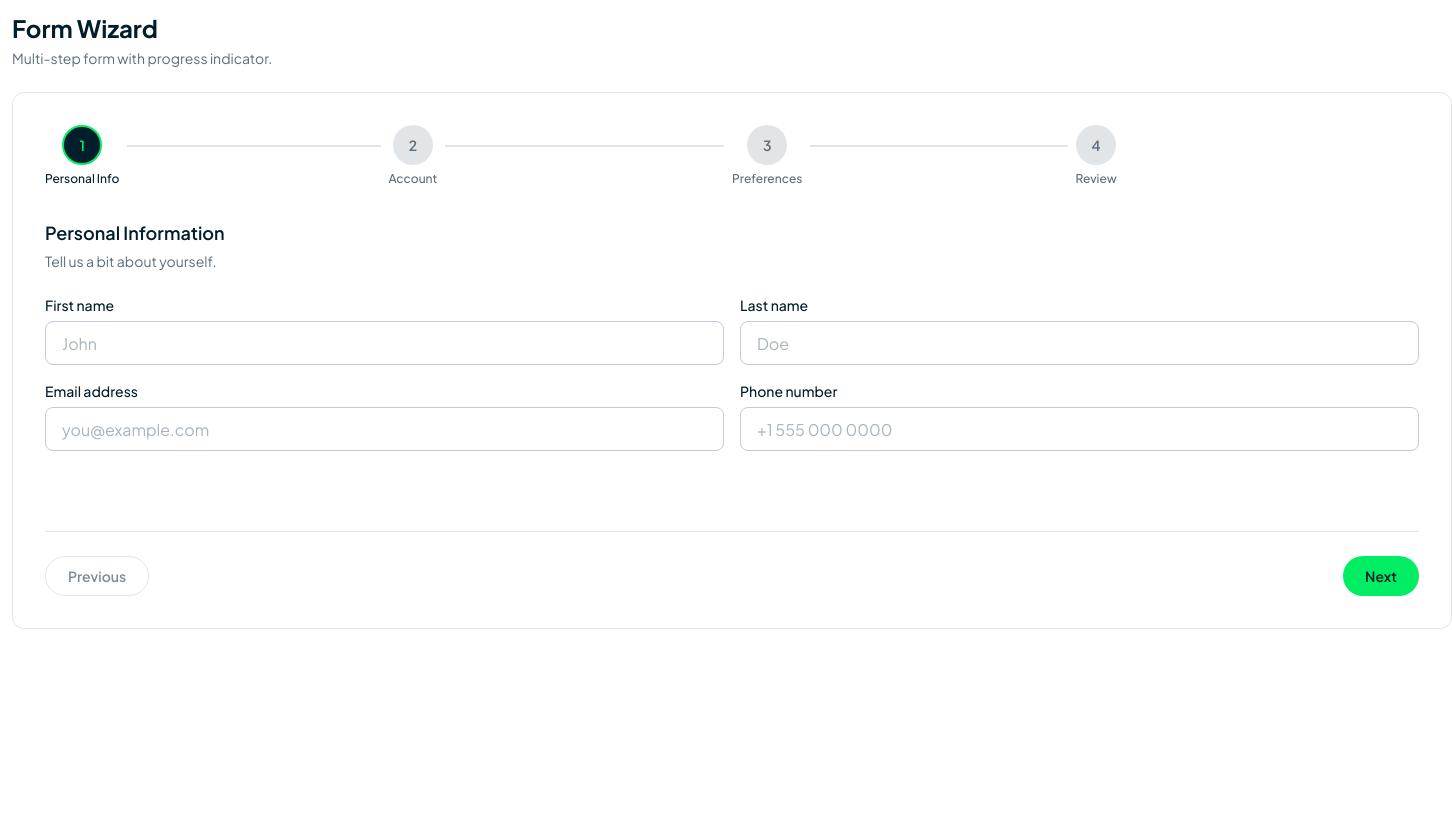
Scenario: WizardPage › navigates to step 2 on Next click
Click the button "Next" at (1381, 576), box [1343,556,1419,596]
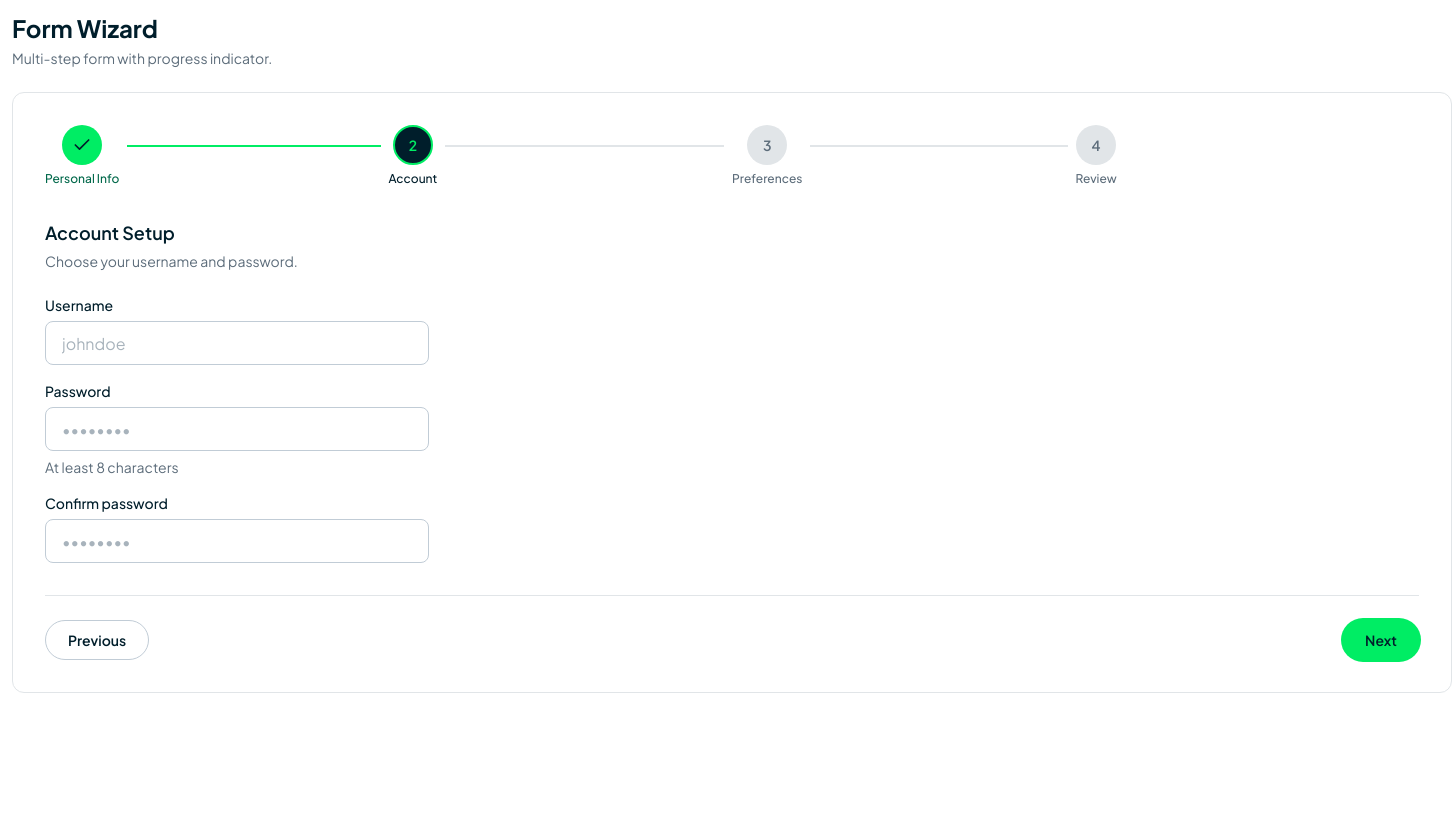
Now the heading "Account Setup" is shown, box [45,221,175,244]
